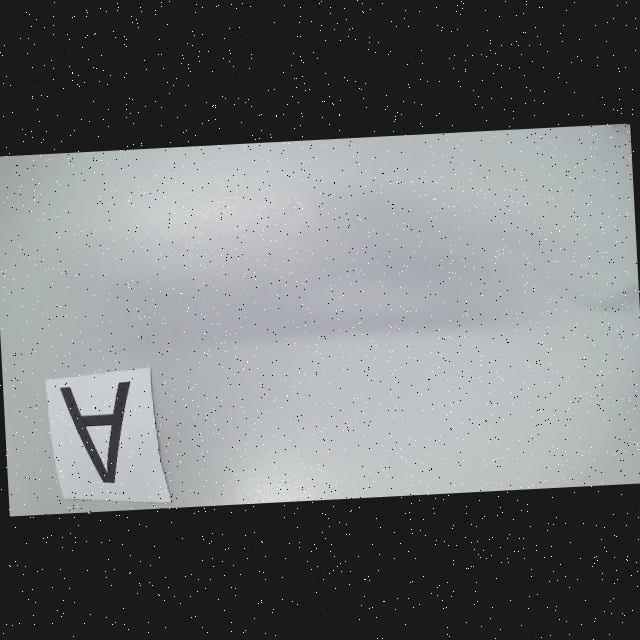FAKE: (60, 382, 135, 486)
